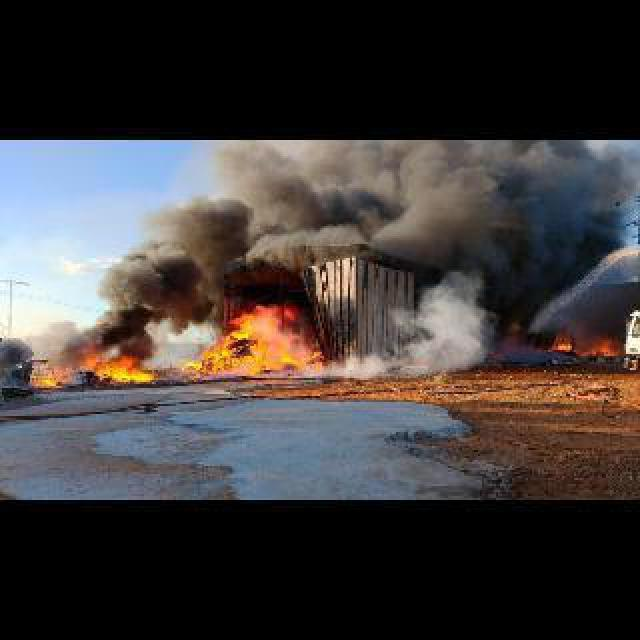fire: (182, 296, 320, 370), (84, 342, 156, 380), (394, 356, 432, 370), (42, 368, 58, 384)
smoke: (108, 138, 630, 286), (398, 266, 500, 356), (66, 262, 170, 346), (140, 302, 216, 362), (322, 350, 382, 380)
